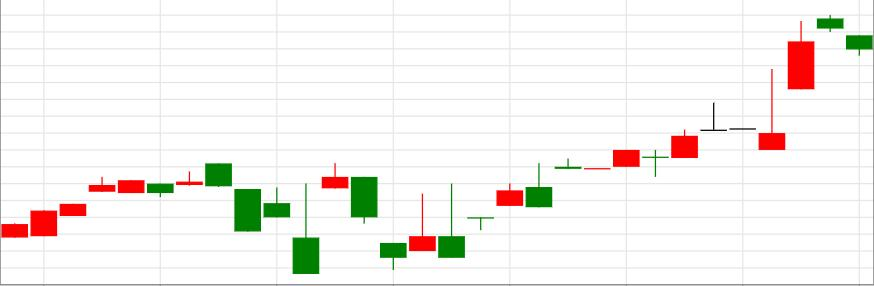inverse_hammer_rise: (205, 163, 319, 274)
